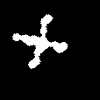single_crochet: (13, 15, 66, 68)
